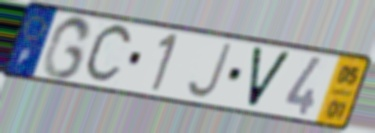1: (149, 32, 180, 94)
4: (282, 53, 323, 119)
C: (81, 21, 136, 87)
G: (40, 15, 95, 82)
J: (184, 41, 235, 100)
V: (246, 44, 295, 111)
